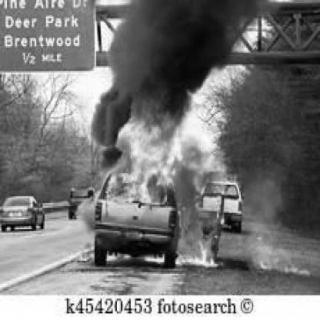Fire: (107, 102, 217, 268), (77, 241, 94, 261)
Smoke: (92, 0, 258, 111)
